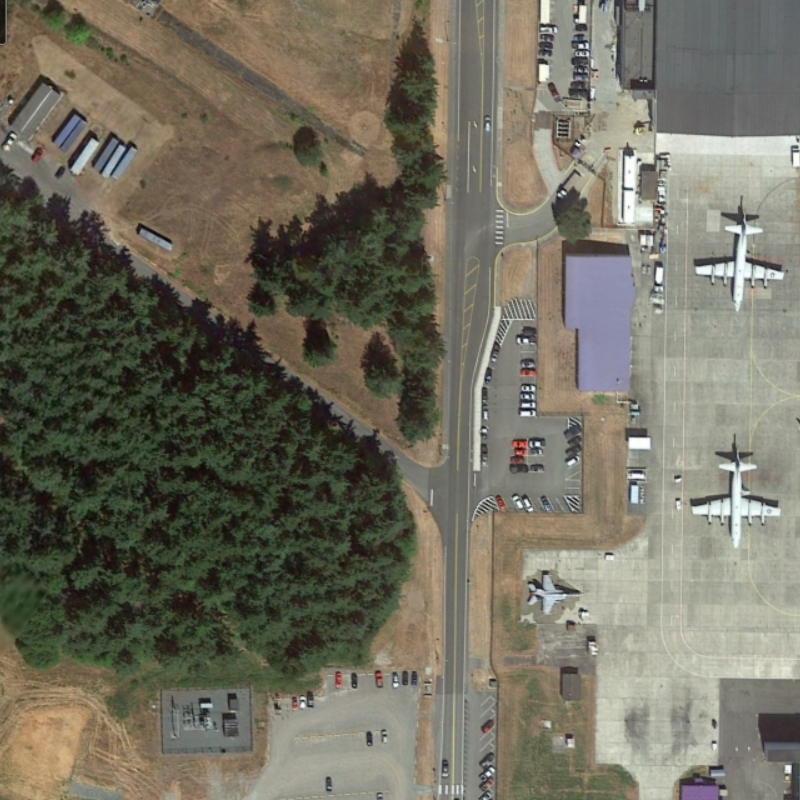A16: (521, 566, 586, 619)
A9: (689, 205, 790, 313), (683, 441, 783, 550)
